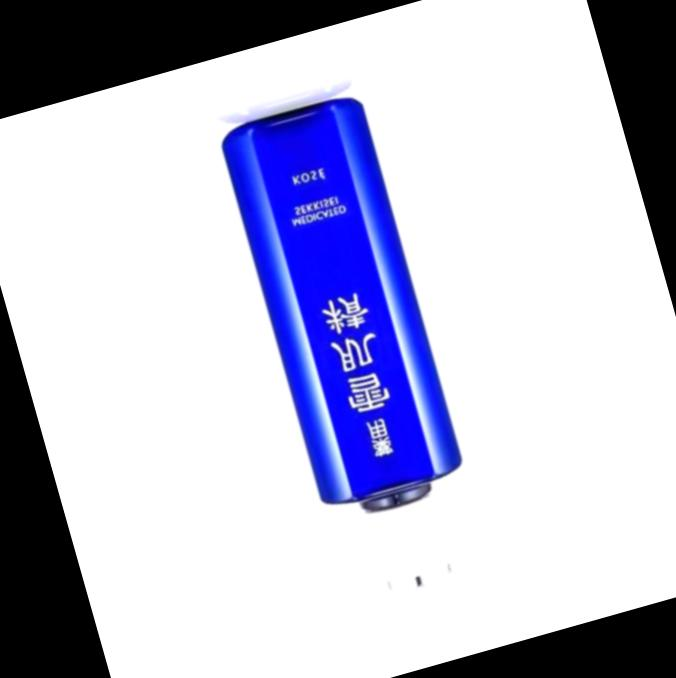cosmetic: (214, 87, 500, 603)
